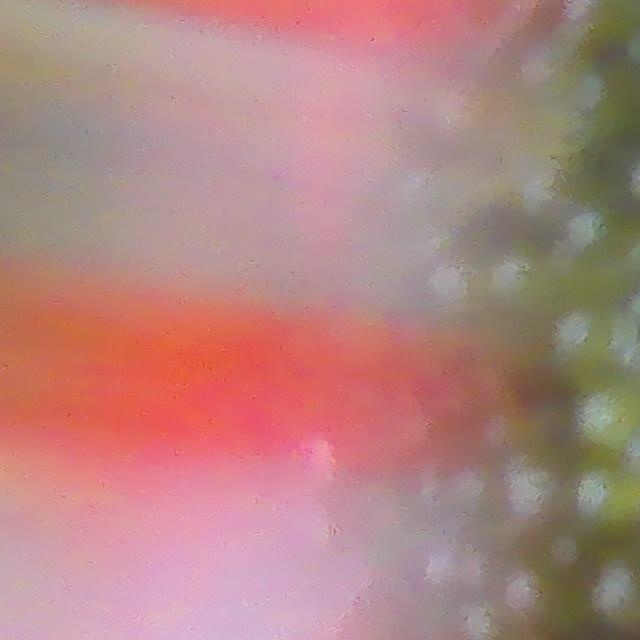SeaGrape: (571, 461, 640, 542), (594, 567, 640, 623)
